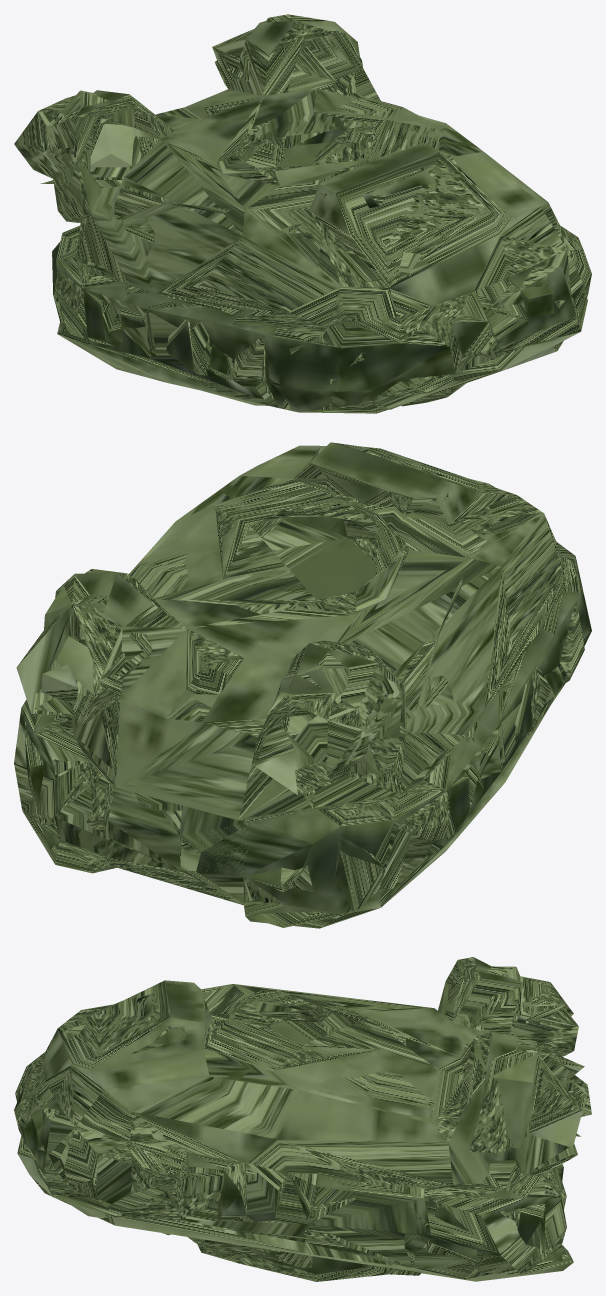
Rendered from hull-s7.glb.
3 views of the same model, one above another, from view 1: azimuth 30°, elevation 25°; view 2: azimuth 150°, elevation 25°; view 3: azimuth 270°, elevation 25° (orthographic). The views are drawn at different scales.
Size of the model in its own units: 0.6608 by 0.489 by 0.951.
Materials: 1 (1 with a texture image).
